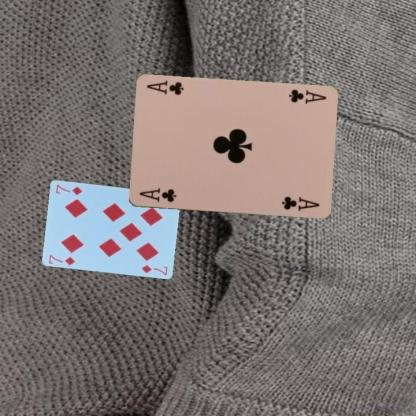7d: (46, 252, 76, 266)
Ac: (136, 186, 178, 204), (286, 87, 328, 105)
